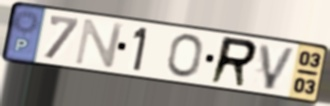1: (130, 26, 149, 73)
7: (44, 13, 82, 62)
N: (72, 17, 127, 69)
O: (165, 32, 204, 80)
R: (207, 34, 260, 89)
V: (258, 42, 299, 92)
